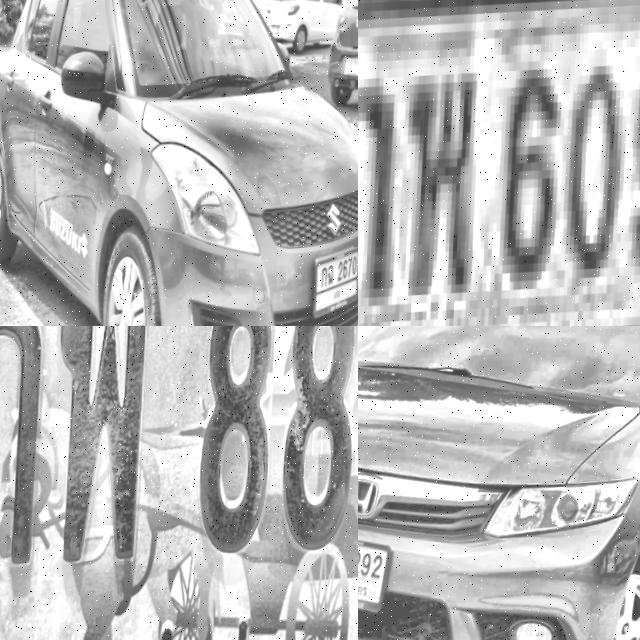license-plate: (0, 326, 358, 640), (358, 0, 640, 326), (358, 520, 396, 630), (314, 251, 358, 324), (341, 60, 358, 89), (269, 31, 281, 44)
